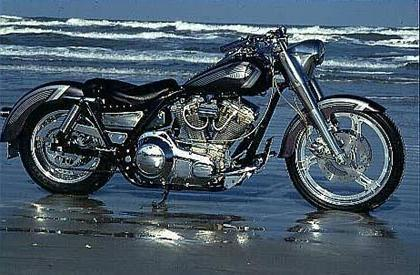motorcycle: (1, 17, 420, 224)
